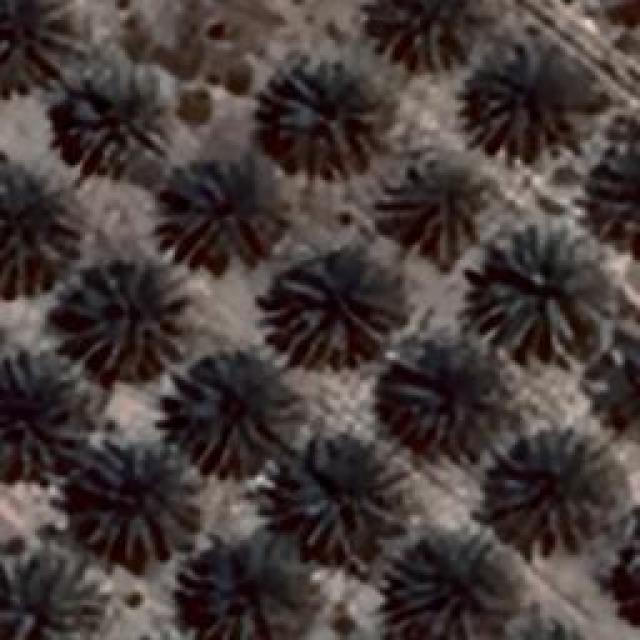PalmTree: (79, 108, 619, 388), (468, 220, 610, 360), (52, 258, 192, 380), (170, 350, 308, 472), (262, 260, 408, 370), (380, 347, 515, 465), (78, 440, 200, 568), (278, 432, 400, 558), (160, 152, 288, 270), (265, 60, 390, 178), (490, 430, 612, 545), (385, 528, 510, 638), (190, 528, 312, 638), (40, 98, 79, 424), (377, 157, 485, 265), (65, 62, 173, 168), (460, 48, 562, 160), (0, 165, 80, 295), (0, 544, 105, 638), (365, 0, 480, 70), (0, 0, 80, 85), (592, 142, 638, 238), (614, 517, 640, 632), (498, 616, 598, 640), (624, 510, 640, 628), (110, 625, 235, 640), (501, 623, 598, 640), (111, 628, 228, 640), (628, 511, 640, 627), (599, 0, 640, 33)
